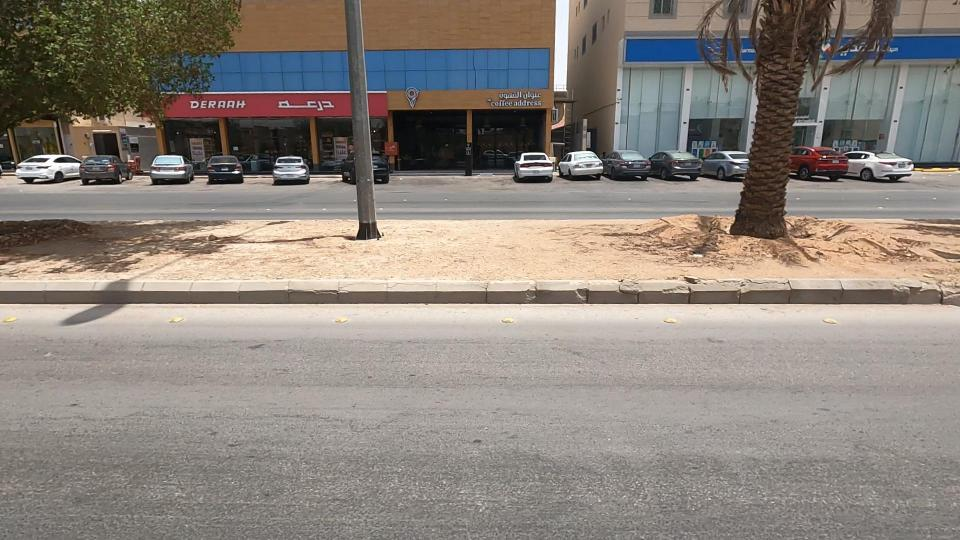CLUTTER_SIDEWALK: (294, 179, 814, 316), (0, 177, 430, 316)
